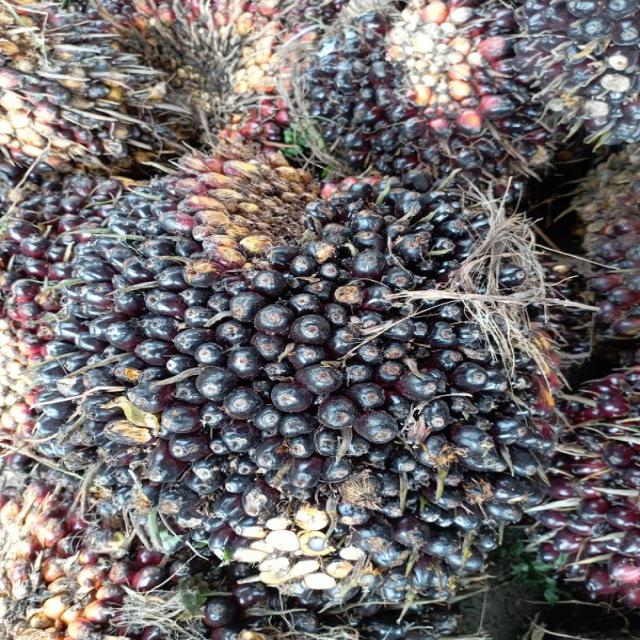fraksi 00: (18, 164, 581, 563), (298, 0, 559, 172)
